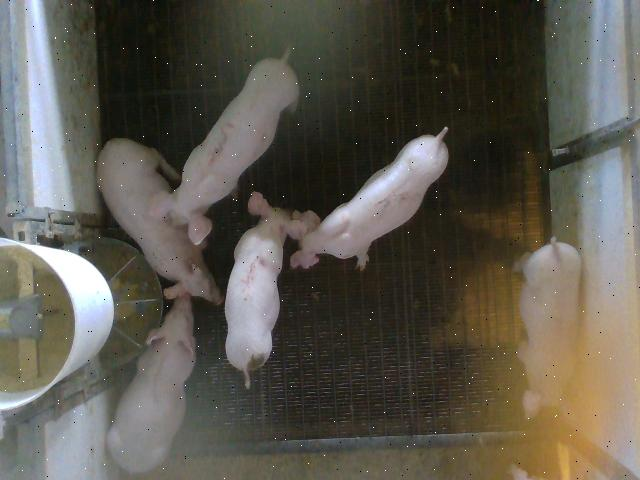pig-3: (149, 51, 299, 245)
pig-5: (225, 192, 320, 388)
